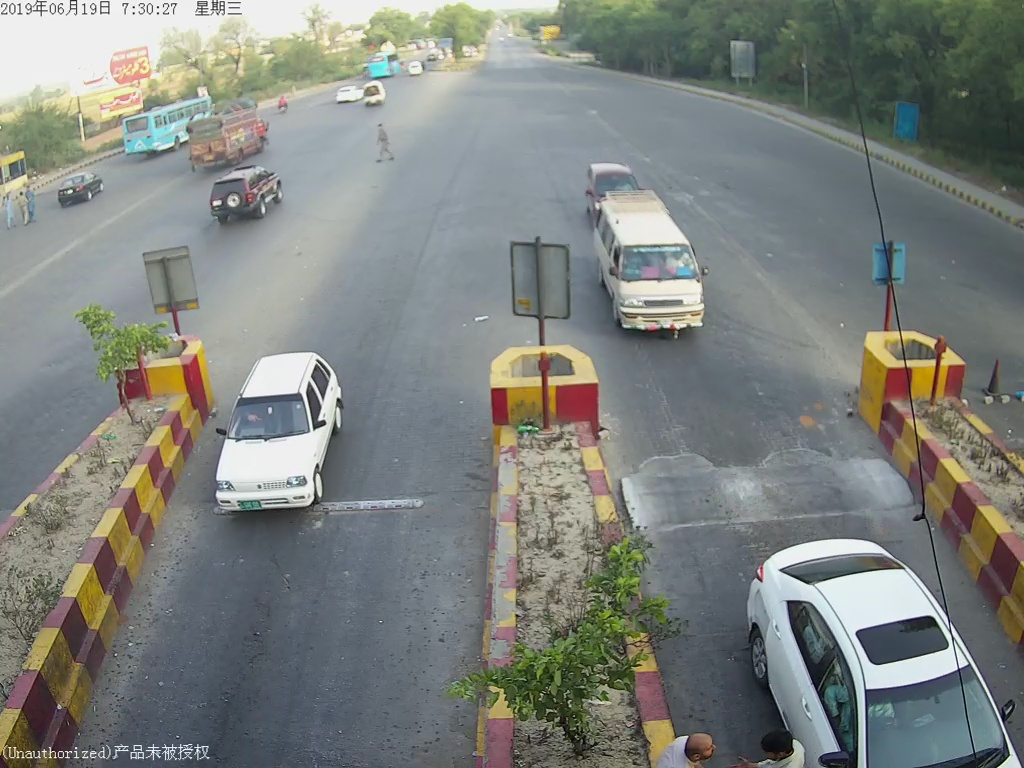Cat-1: (205, 350, 353, 534)
Cat-2: (593, 191, 722, 352)
